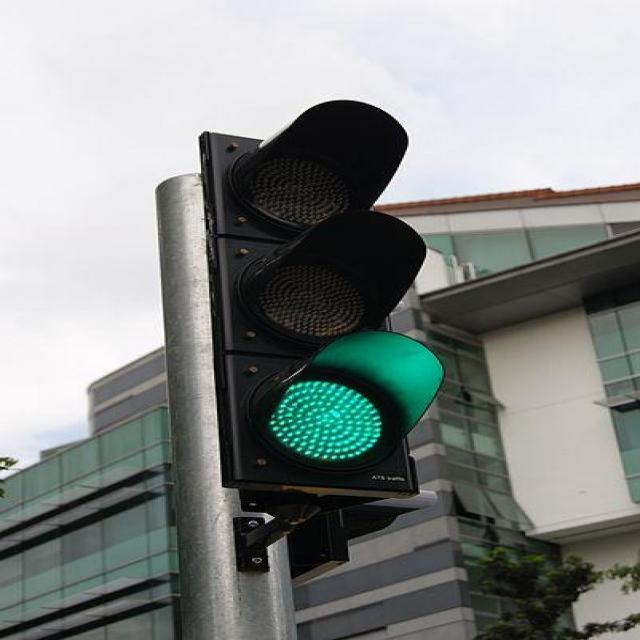green_light: (201, 95, 420, 499)
